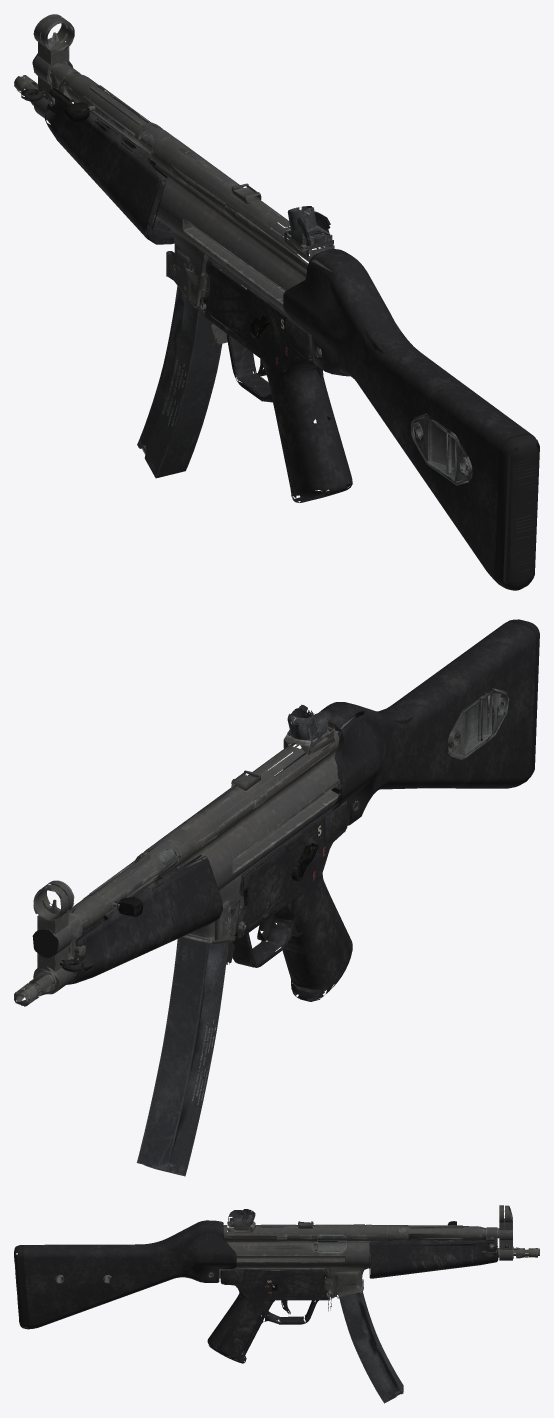
3 renders of one model, top to bottom at view 1: azimuth 30°, elevation 25°; view 2: azimuth 150°, elevation 25°; view 3: azimuth 270°, elevation 25°, orthographic. The views are drawn at different scales.
Visible parts, largest first — view 1: merged; view 2: merged; view 3: merged.
Boxes of the visible parts, x1,y1,x2,y2 form: merged: (14, 14, 539, 590); merged: (14, 619, 539, 1176); merged: (14, 1205, 539, 1403).
Bounding box in the file's own units: 0.0811 × 0.3658 × 0.901.
Materials: 5 (5 with a texture image).
